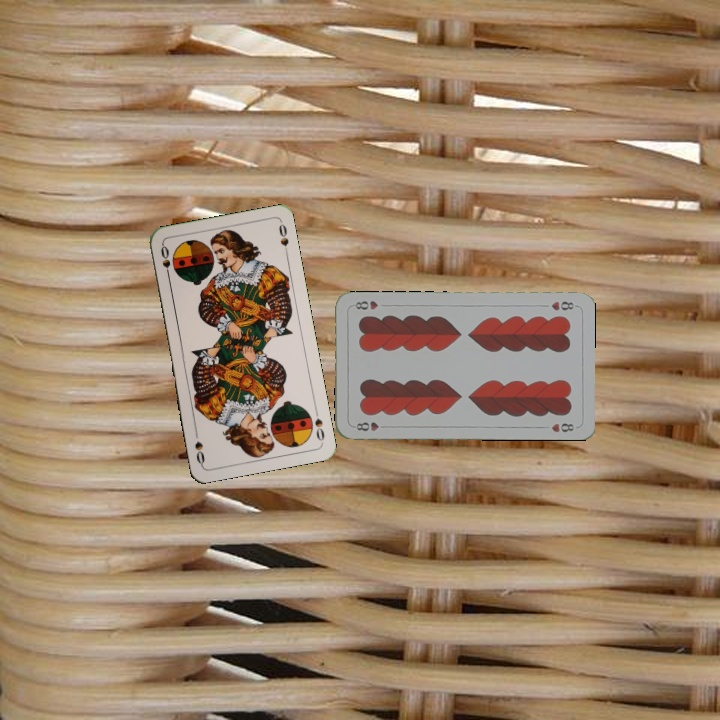H8: (352, 418, 390, 433), (547, 297, 579, 313)
SO: (157, 241, 173, 281), (311, 404, 327, 444)
